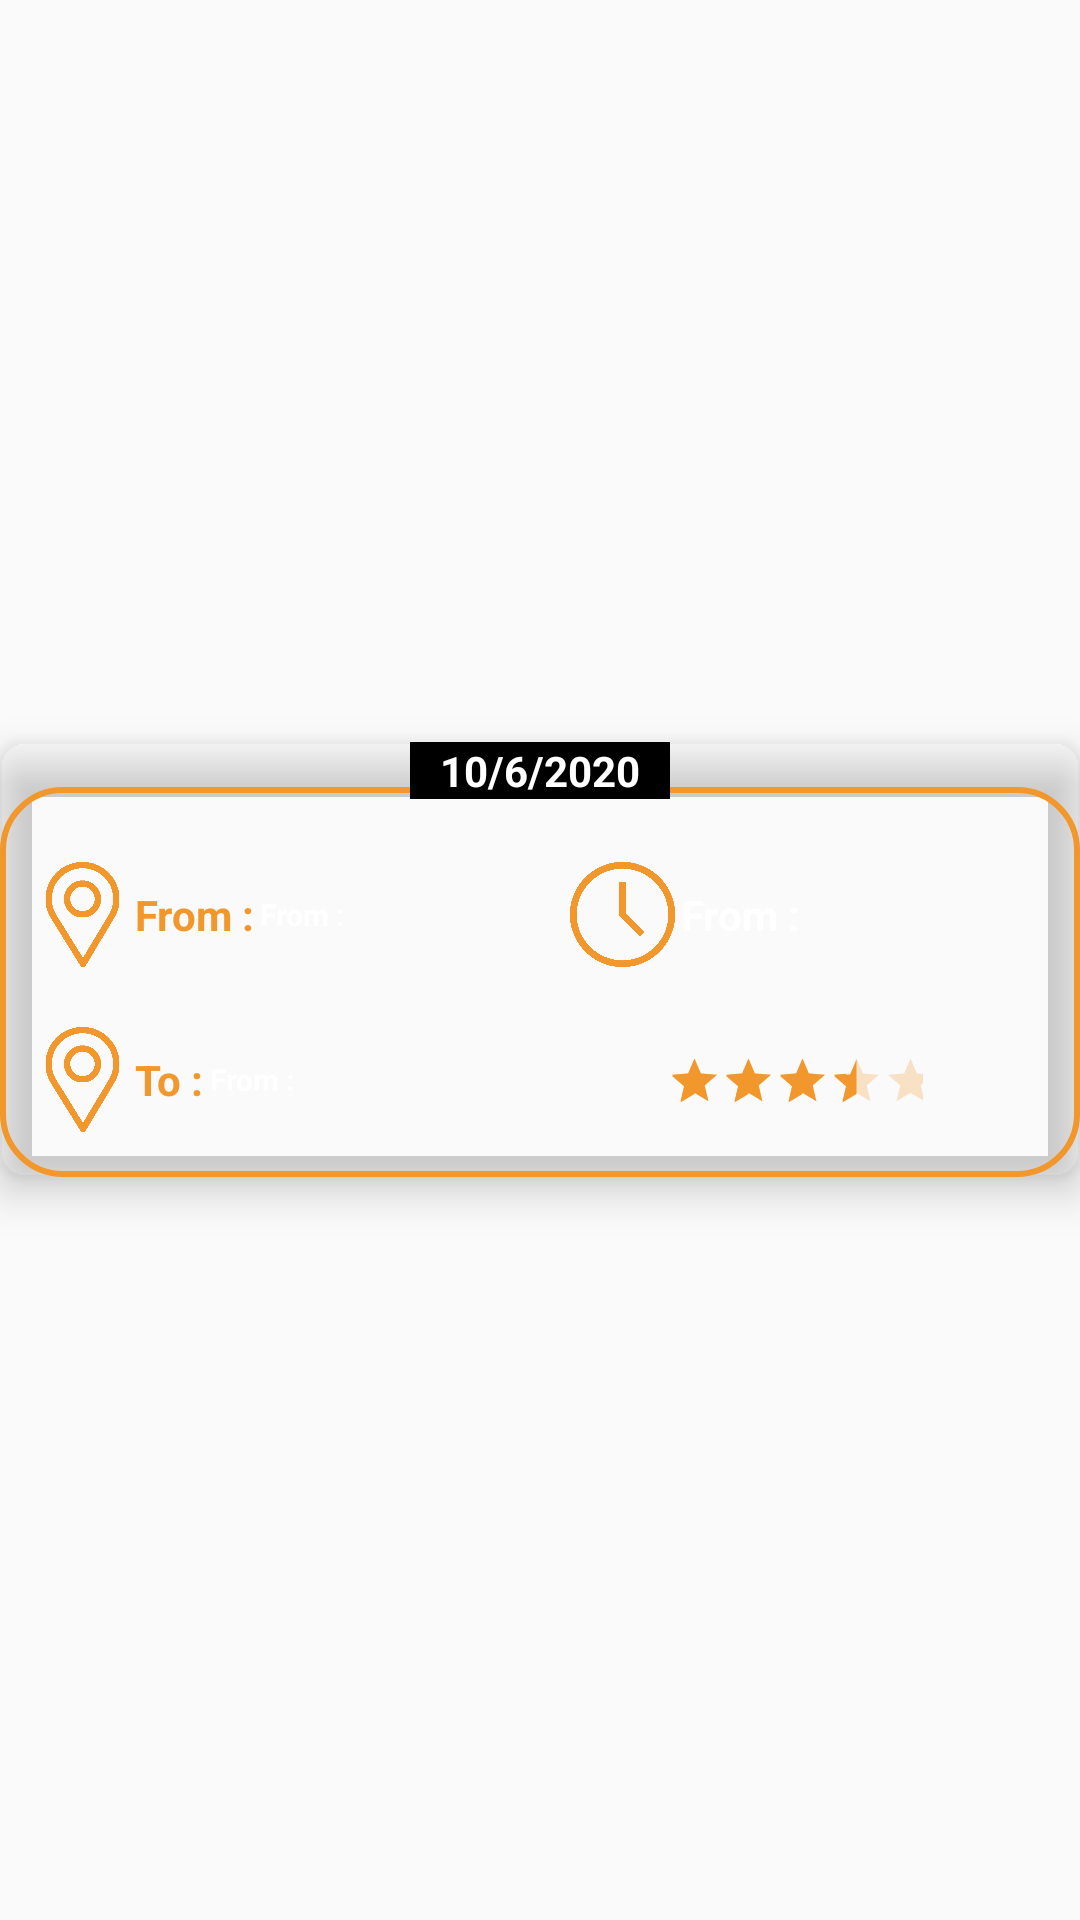

Named icons in this screenshot (1080*1920) and their bounding boxes, (x1, y1, x2, y2):
clock: (570, 862, 675, 967)
location: (46, 862, 119, 967), (46, 1027, 119, 1132)
